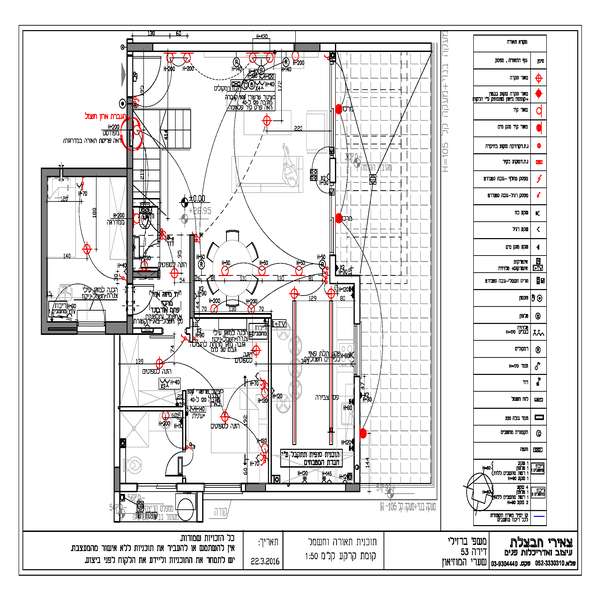door: (117, 53, 163, 106), (157, 414, 191, 475), (122, 281, 160, 317)
wall: (37, 167, 56, 337), (109, 334, 124, 524), (323, 37, 431, 60), (41, 163, 128, 187), (351, 374, 367, 484), (123, 179, 137, 293), (125, 94, 144, 172), (349, 268, 372, 321), (186, 234, 200, 318), (292, 37, 327, 60), (103, 317, 136, 341), (119, 404, 190, 414), (177, 479, 207, 501), (121, 38, 156, 56), (329, 265, 360, 285), (341, 477, 369, 498), (240, 480, 269, 499)
